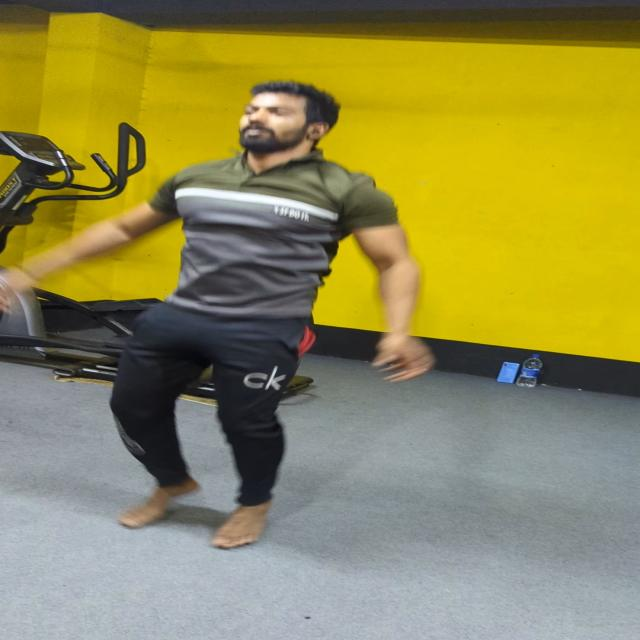Normal_JumpingJacks: (0, 78, 549, 558)
